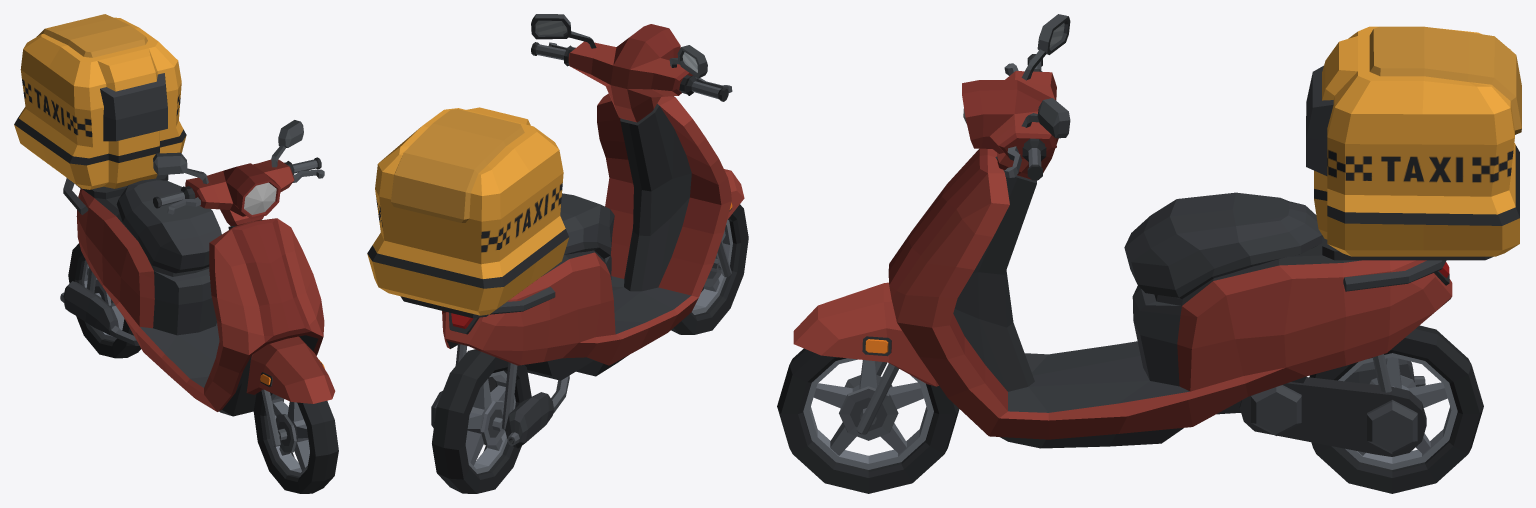
Rendered from SM_Veh_Moped_01.glb.
The picture shows the model from 3 angles, left to right: view 1: azimuth 30°, elevation 25°; view 2: azimuth 150°, elevation 25°; view 3: azimuth 270°, elevation 25°; orthographic projection. The views are drawn at different scales.
Visible parts, largest first — view 1: SM_Veh_Moped_01, SM_Veh_Moped_01_Box, SM_Veh_Moped_01_Steering_Wheel, SM_Veh_Moped_01_Wheel_F, SM_Veh_Moped_01_Box_Lid, SM_Veh_Moped_01_Wheel_R; view 2: SM_Veh_Moped_01, SM_Veh_Moped_01_Box, SM_Veh_Moped_01_Steering_Wheel, SM_Veh_Moped_01_Wheel_R, SM_Veh_Moped_01_Box_Lid, SM_Veh_Moped_01_Wheel_F; view 3: SM_Veh_Moped_01, SM_Veh_Moped_01_Box, SM_Veh_Moped_01_Steering_Wheel, SM_Veh_Moped_01_Wheel_F, SM_Veh_Moped_01_Wheel_R, SM_Veh_Moped_01_Box_Lid.
Boxes of the visible parts, x1,y1,x2,y2 form: SM_Veh_Moped_01: (60,178,324,416); SM_Veh_Moped_01_Box: (14,17,186,199); SM_Veh_Moped_01_Steering_Wheel: (153,120,335,452); SM_Veh_Moped_01_Wheel_F: (253,391,338,493); SM_Veh_Moped_01_Box_Lid: (36,14,147,57); SM_Veh_Moped_01_Wheel_R: (68,243,141,358); SM_Veh_Moped_01: (431,93,731,448); SM_Veh_Moped_01_Box: (367,107,569,318); SM_Veh_Moped_01_Steering_Wheel: (531,14,744,286); SM_Veh_Moped_01_Wheel_R: (432,349,531,493); SM_Veh_Moped_01_Box_Lid: (391,109,524,222); SM_Veh_Moped_01_Wheel_F: (671,204,748,334); SM_Veh_Moped_01: (888,148,1452,456); SM_Veh_Moped_01_Box: (1306,26,1519,260); SM_Veh_Moped_01_Steering_Wheel: (793,14,1070,440); SM_Veh_Moped_01_Wheel_F: (777,348,959,493); SM_Veh_Moped_01_Wheel_R: (1309,325,1483,493); SM_Veh_Moped_01_Box_Lid: (1369,26,1521,134).
Size of the model in its own units: 0.76 by 1.39 by 2.12.
1 material, 1 textured.
